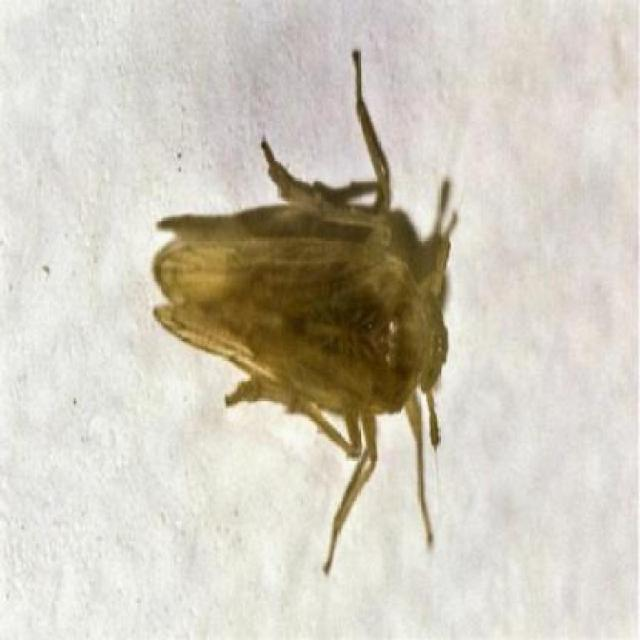brown-planthopper: (148, 134, 454, 548)
